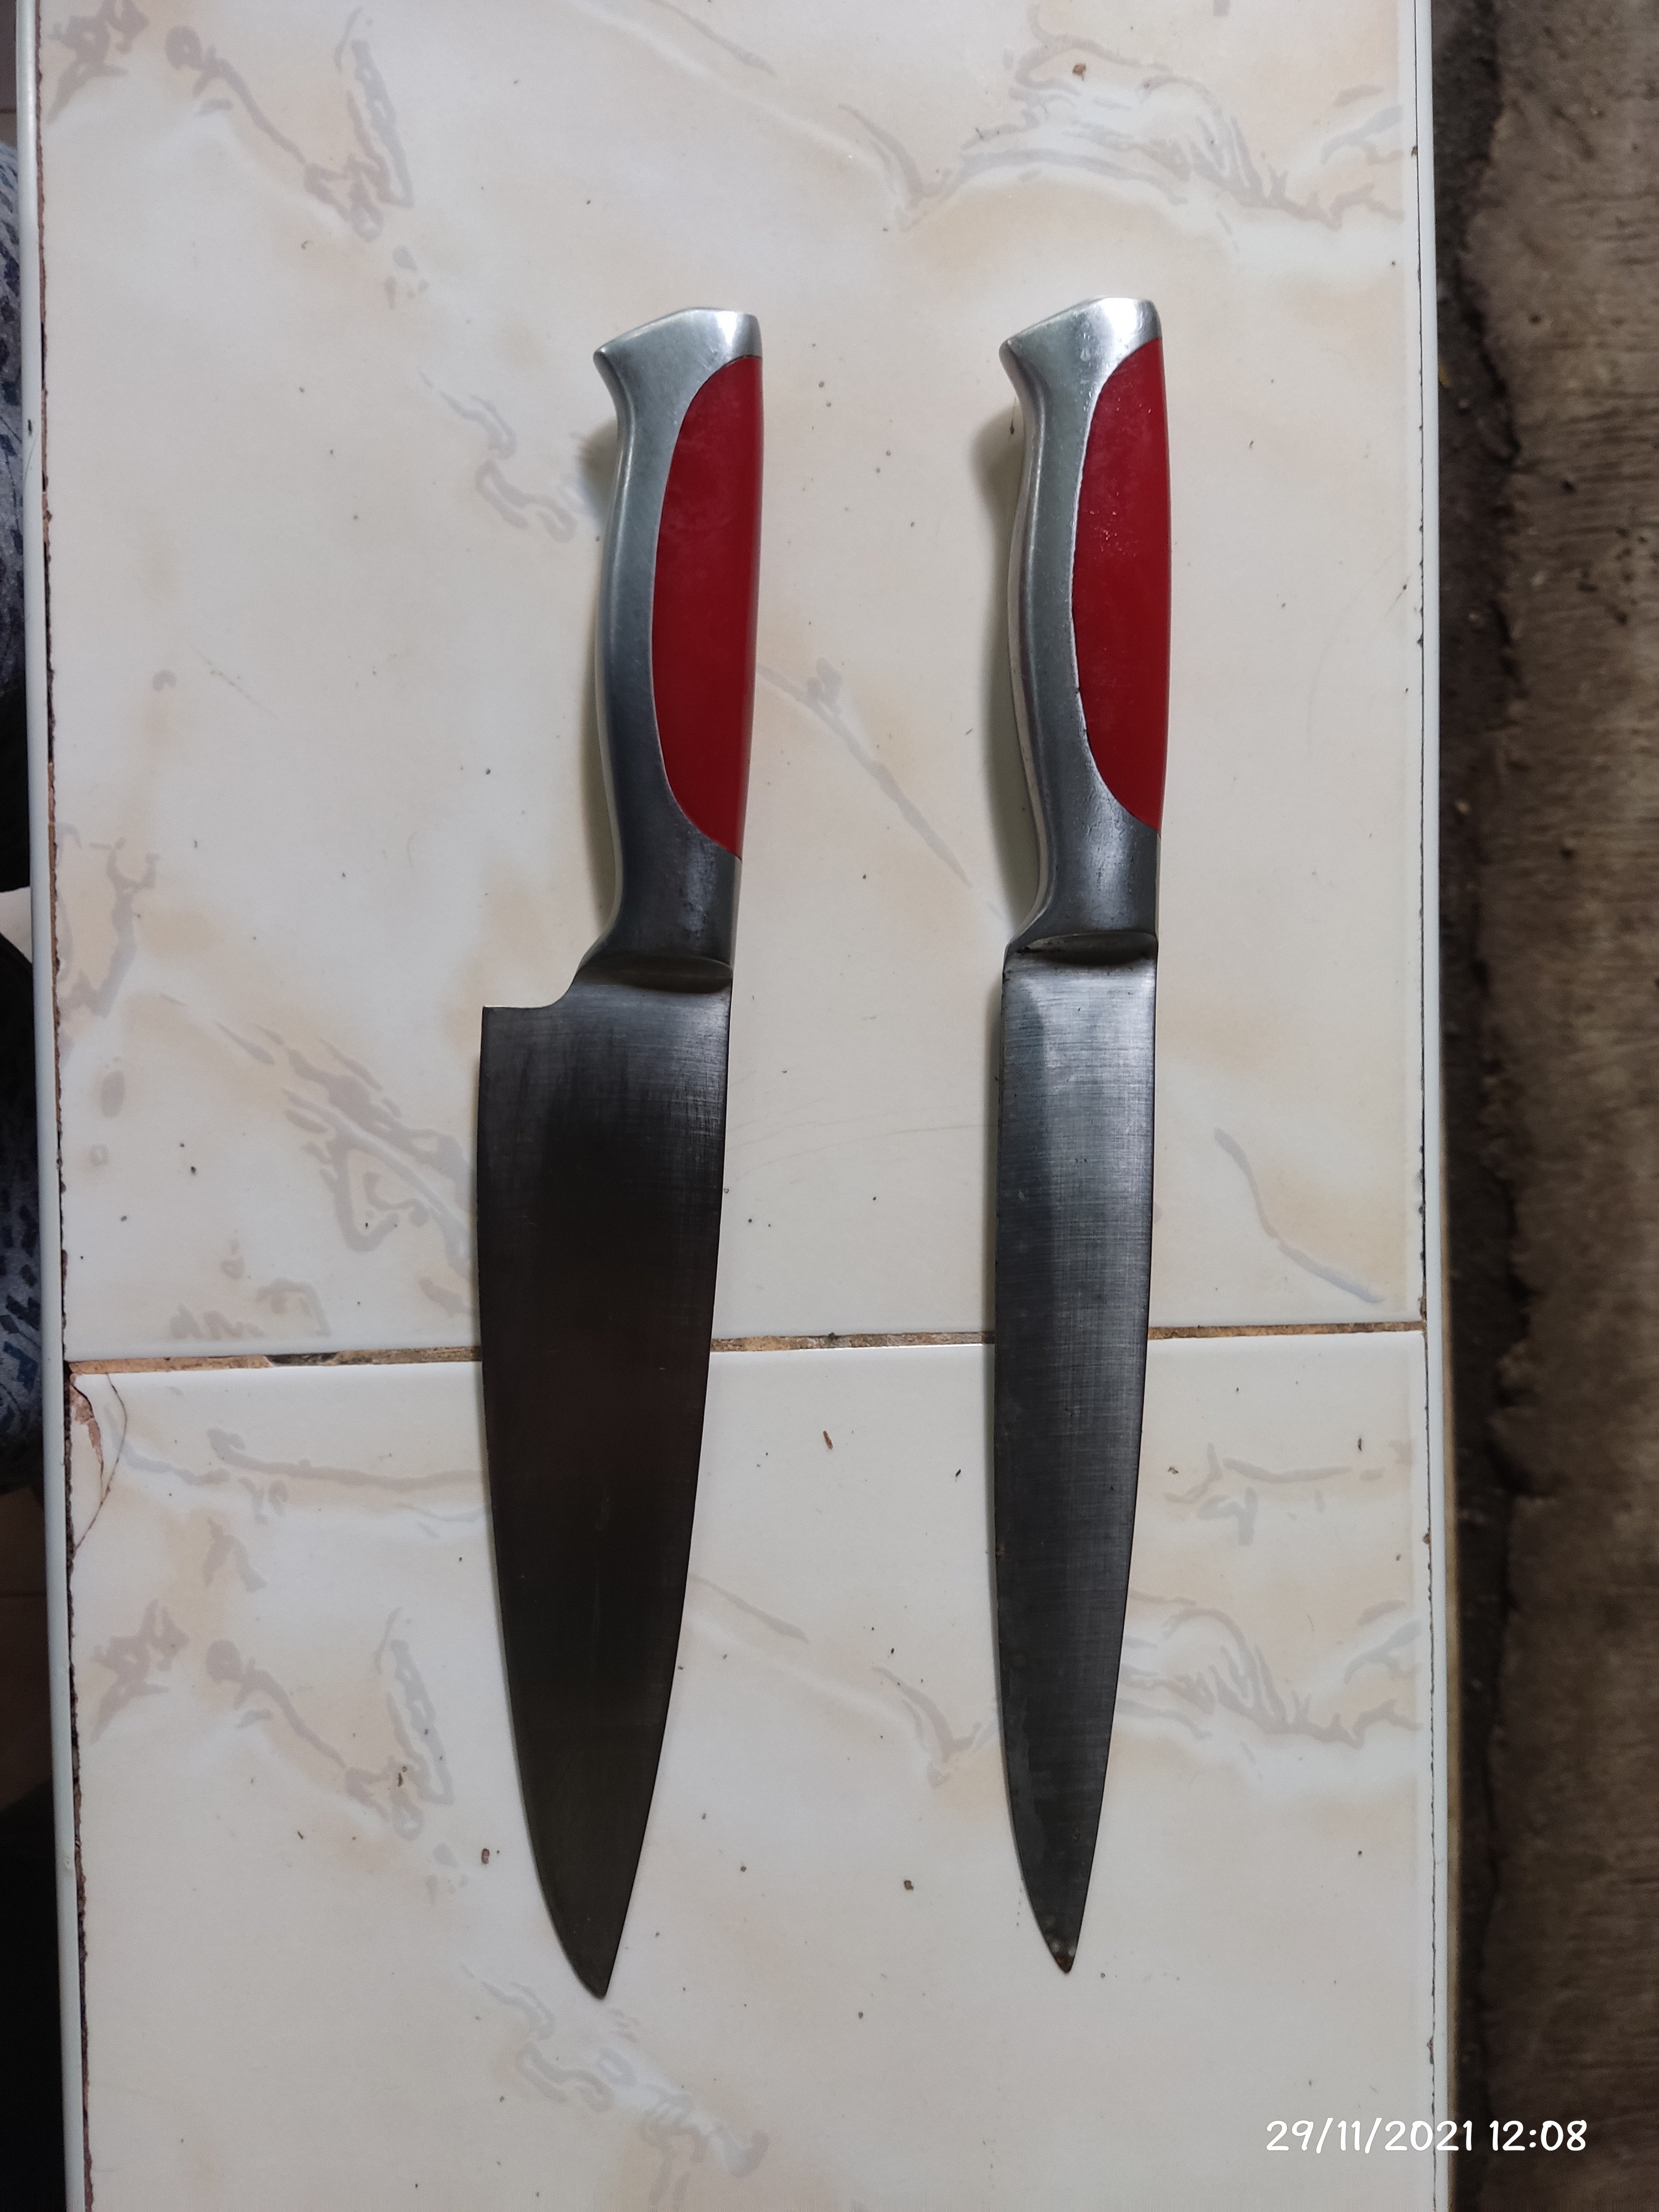knife: (474, 308, 784, 2003), (950, 303, 1201, 1972)
